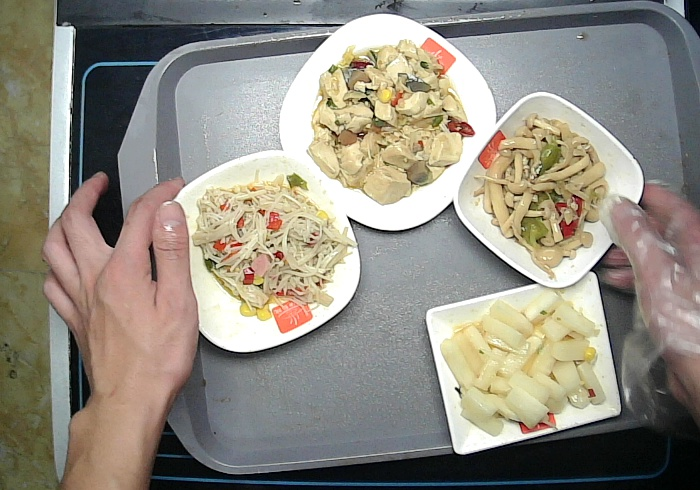SHKJ-Bai_Se_Cai_Die: (157, 145, 367, 359)
SHKJ-Bai_Se_Si_Fang_Cai_Die: (275, 10, 500, 235)
SHKJ-Bai_Se_Xiao_Fang_Die: (452, 86, 650, 292)
SHKJ-Si_Fang_Min: (421, 267, 625, 456)
